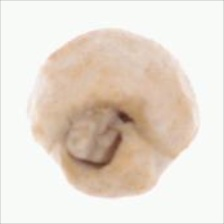L3: (59, 105, 134, 167)
L4: (27, 28, 200, 198)
